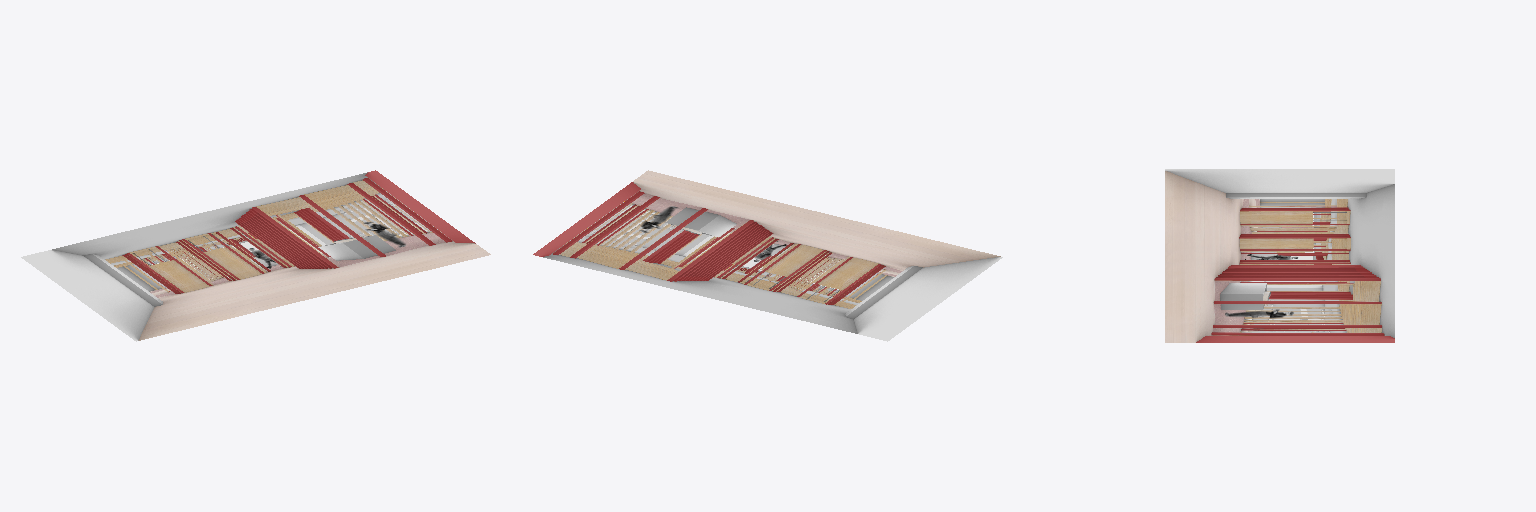
3 renders of one model, left to right at view 1: azimuth 30°, elevation 25°; view 2: azimuth 150°, elevation 25°; view 3: azimuth 270°, elevation 25°, orthographic.
Visible parts, largest first — view 1: Plane001; view 2: Plane001; view 3: Plane001.
Boxes of the visible parts, box(x1,y1,x2,y2) form: Plane001: box(21, 170, 490, 341); Plane001: box(533, 170, 1002, 341); Plane001: box(1165, 169, 1394, 342).
Size of the model in its own units: 26.67 by 0 by 15.
1 materials, 1 textured.